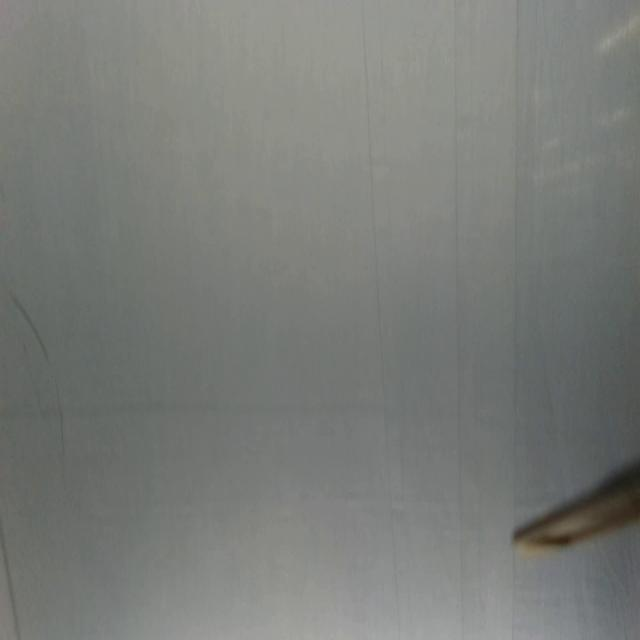color bleeding: (0, 392, 478, 424)
crease: (361, 0, 403, 640), (451, 2, 467, 639), (512, 0, 522, 528), (0, 517, 22, 640), (509, 548, 518, 640)
